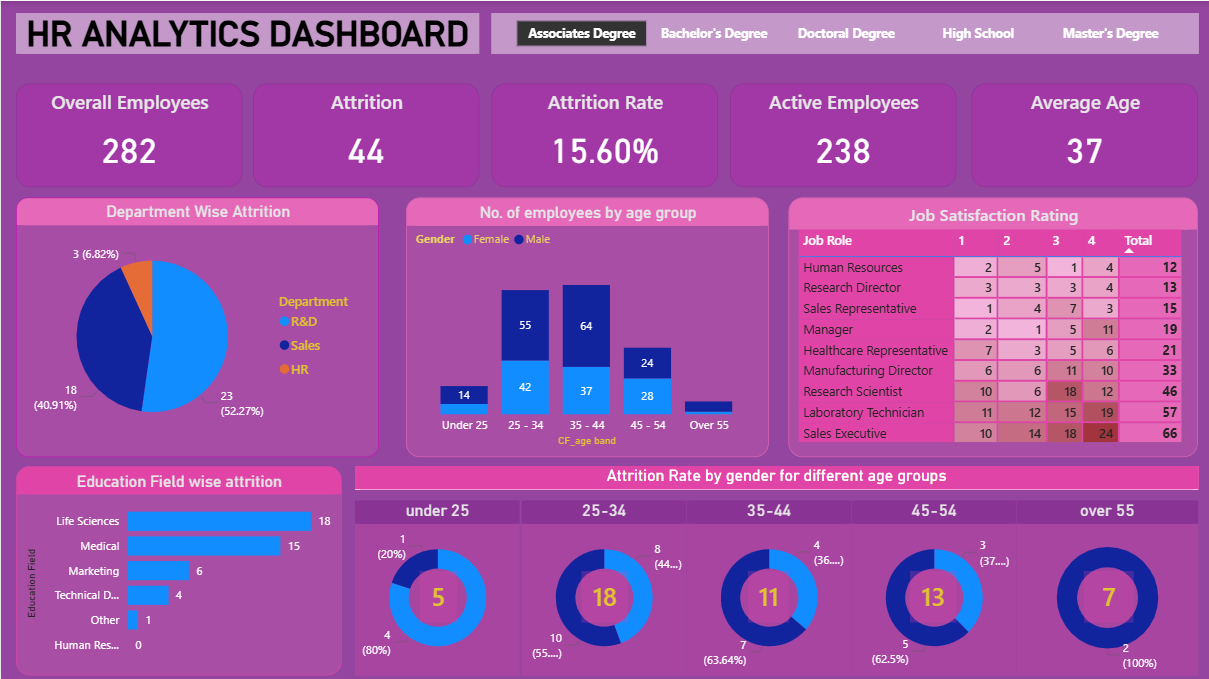

Layout of this report page (visuals, bound fields, positions):
{"tool":"powerbi","page":{"name":"Page 1","canvas":[1280,720],"ordinal":0},"visuals":[{"type":"card","title":"Overall Employees","fields":{"Values":["Sum(HR data.Employee Count)"]},"box":[15.9,87.5,240.2,109.8],"z":0},{"type":"card","title":"Attrition","fields":{"Values":["Sum(HR data.Attrition Count)"]},"box":[267.2,87.5,240.2,109.8],"z":1000},{"type":"card","title":"Attrition Rate","fields":{"Values":["HR data.Attrition Rate"]},"box":[520.1,87.5,240.2,109.8],"z":2000},{"type":"card","title":"Active Employees","fields":{"Values":["HR data.Active Employees"]},"box":[773,87.5,240.2,109.8],"z":3000},{"type":"card","title":"Average Age","fields":{"Values":["Avg(HR data.Age)"]},"box":[1029.1,87.5,240.2,109.8],"z":4000},{"type":"pieChart","title":"Department Wise Attrition","fields":{"Category":["HR data.Department"],"Y":["Sum(HR data.Attrition Count)"]},"box":[15.9,208.4,384.9,275.2],"z":5000},{"type":"columnChart","title":"No. of employees by age group","fields":{"Category":["HR data.CF_age band"],"Y":["Sum(HR data.Employee Count)"],"Series":["HR data.Gender"]},"box":[429.5,208.4,384.9,275.2],"z":6000},{"type":"pivotTable","title":"Job Satisfaction Rating","fields":{"Rows":["HR data.Job Role"],"Columns":["HR data.Job Satisfaction"],"Values":["Sum(HR data.Employee Count)"]},"box":[835.1,208.4,434.2,275.2],"z":7000},{"type":"barChart","title":" Education Field wise attrition","fields":{"Category":["HR data.Education Field"],"Y":["Sum(HR data.Attrition Count)"]},"box":[16,493,345,222],"z":8000},{"type":"donutChart","title":"under 25","fields":{"Category":["HR data.Gender"],"Y":["Sum(HR data.Attrition Count)"],"Series":["HR data.CF_age band"]},"box":[375.4,529.7,175,186.1],"z":9000},{"type":"textbox","title":"Attrition Rate by gender for different age groups","box":[375.4,493.1,893.9,25.4],"z":10000},{"type":"donutChart","title":"25-34","fields":{"Category":["HR data.Gender"],"Y":["Sum(HR data.Attrition Count)"],"Series":["HR data.CF_age band"]},"box":[551.9,529.7,175,186.1],"z":11000},{"type":"donutChart","title":"35-44","fields":{"Category":["HR data.Gender"],"Y":["Sum(HR data.Attrition Count)"],"Series":["HR data.CF_age band"]},"box":[726.9,529.7,175,186.1],"z":12000},{"type":"donutChart","title":"45-54","fields":{"Category":["HR data.Gender"],"Y":["Sum(HR data.Attrition Count)"],"Series":["HR data.CF_age band"]},"box":[901.9,529.7,175,186.1],"z":13000},{"type":"donutChart","title":"over 55","fields":{"Category":["HR data.Gender"],"Y":["Sum(HR data.Attrition Count)"],"Series":["HR data.CF_age band"]},"box":[1076.8,529.7,192.5,186.1],"z":14000},{"type":"card","fields":{"Values":["Sum(HR data.Attrition Count)"]},"box":[444.1,604.7,39.7,54.8],"z":15000},{"type":"card","fields":{"Values":["Sum(HR data.Attrition Count)"]},"box":[616.1,604.7,49.1,54.8],"z":16000},{"type":"card","fields":{"Values":["Sum(HR data.Attrition Count)"]},"box":[791.8,604.7,43.5,54.8],"z":17000},{"type":"card","fields":{"Values":["Sum(HR data.Attrition Count)"]},"box":[963.8,604.7,49.1,54.8],"z":18000},{"type":"card","fields":{"Values":["Sum(HR data.Attrition Count)"]},"box":[1149,604.7,52.9,54.8],"z":19000},{"type":"textbox","title":"HR ANALYTICS DASHBOARD","box":[15.1,13.2,491.3,43.5],"z":20000},{"type":"slicer","fields":{"Values":["HR data.Education"]},"box":[519.7,13.2,750.2,43.5],"z":21000}]}

Visuals, with their boxes in screenshot pixels (x1, y1, x2, y2), scaled from the page's 1280x720 canvas onto the 1209x679 screenshot:
"Overall Employees" card: (15,83,242,186)
"Attrition" card: (252,83,479,186)
"Attrition Rate" card: (491,83,718,186)
"Active Employees" card: (730,83,957,186)
"Average Age" card: (972,83,1199,186)
"Department Wise Attrition" pieChart: (15,197,379,456)
"No. of employees by age group" columnChart: (406,197,769,456)
"Job Satisfaction Rating" pivotTable: (789,197,1199,456)
" Education Field wise attrition" barChart: (15,465,341,674)
"under 25" donutChart: (355,500,520,675)
"Attrition Rate by gender for different age groups" textbox: (355,465,1199,489)
"25-34" donutChart: (521,500,687,675)
"35-44" donutChart: (687,500,852,675)
"45-54" donutChart: (852,500,1017,675)
"over 55" donutChart: (1017,500,1199,675)
card - Sum(HR data.Attrition Count): (419,570,457,622)
card - Sum(HR data.Attrition Count): (582,570,628,622)
card - Sum(HR data.Attrition Count): (748,570,789,622)
card - Sum(HR data.Attrition Count): (910,570,957,622)
card - Sum(HR data.Attrition Count): (1085,570,1135,622)
"HR ANALYTICS DASHBOARD" textbox: (14,12,478,53)
slicer - HR data.Education: (491,12,1199,53)
